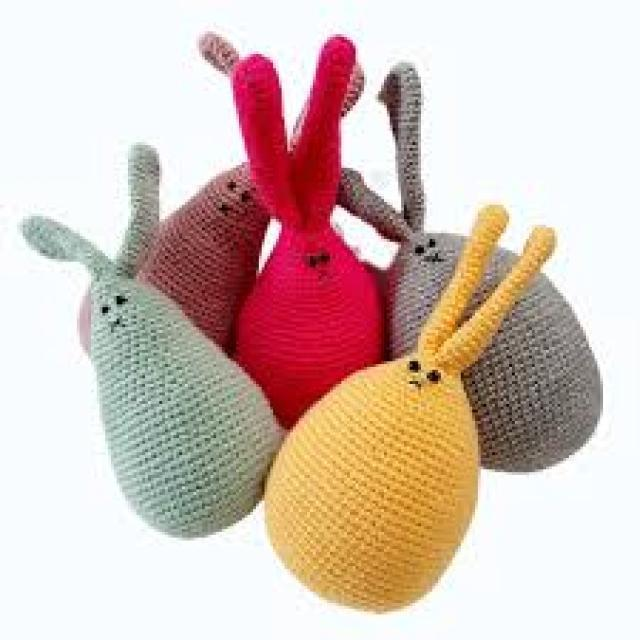soft-toy: (269, 206, 556, 610), (24, 145, 285, 538), (232, 37, 384, 429), (339, 64, 466, 360), (466, 275, 602, 472), (141, 165, 271, 351)
